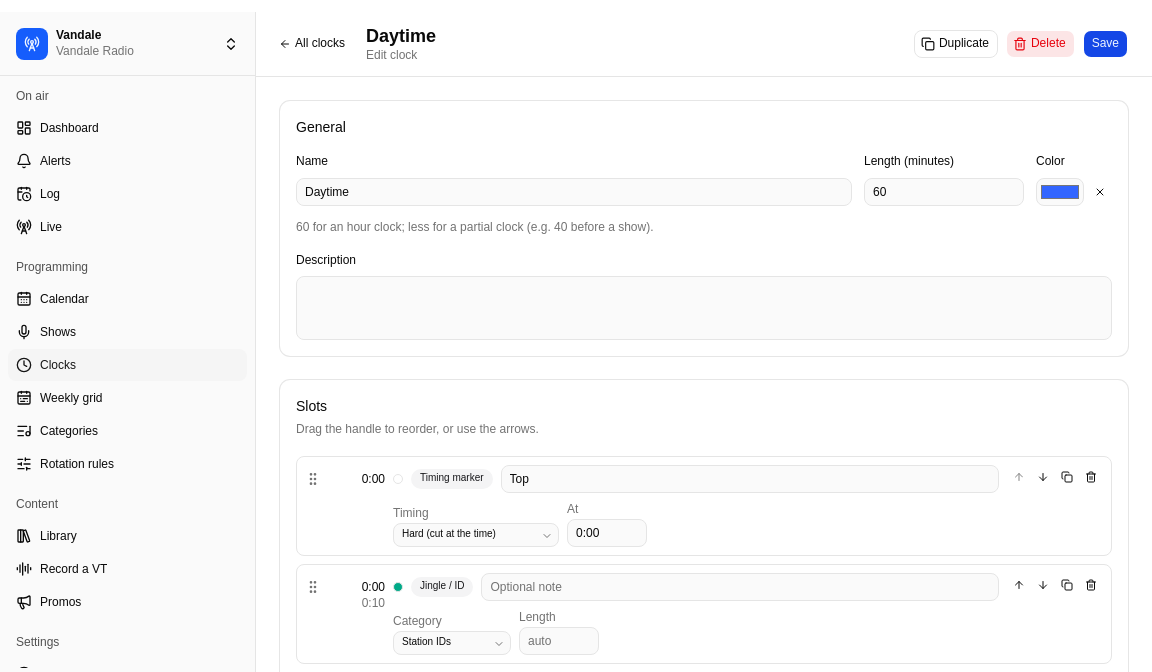
clocks › deletes the clock after confirmation
Click the button "Delete" at {"x": 1040, "y": 44}, box [1006, 30, 1075, 58]
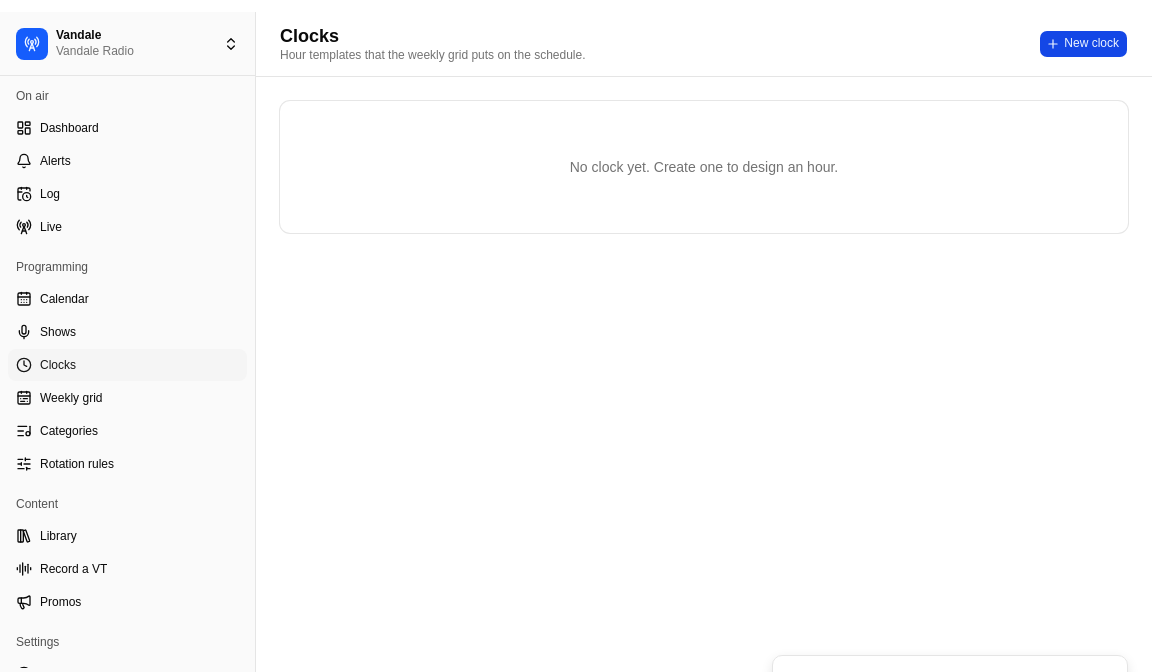
Expected: the text "No clock yet. Create one to design an hour." is shown, [570, 159, 838, 175]
